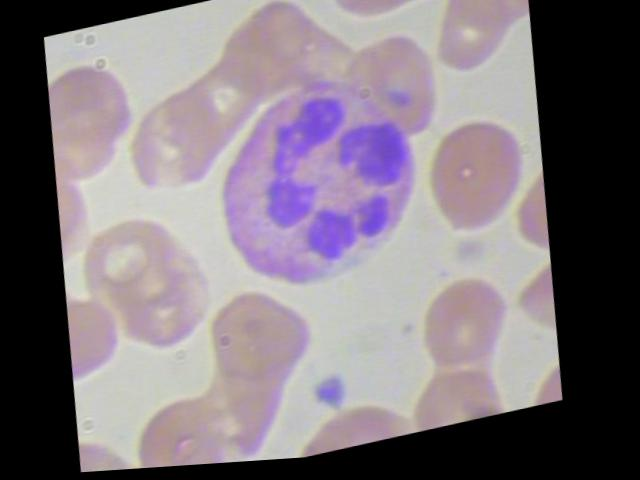Platelets: (307, 373, 361, 428)
Red Blood Cells: (415, 113, 541, 251), (115, 80, 246, 212), (201, 274, 331, 406), (103, 244, 233, 376), (41, 52, 153, 193), (414, 271, 532, 385), (135, 379, 262, 470), (278, 393, 430, 463), (408, 360, 528, 439), (421, 0, 529, 85), (320, 0, 439, 45), (81, 417, 162, 473)
White Blood Cells: (194, 60, 451, 317)
